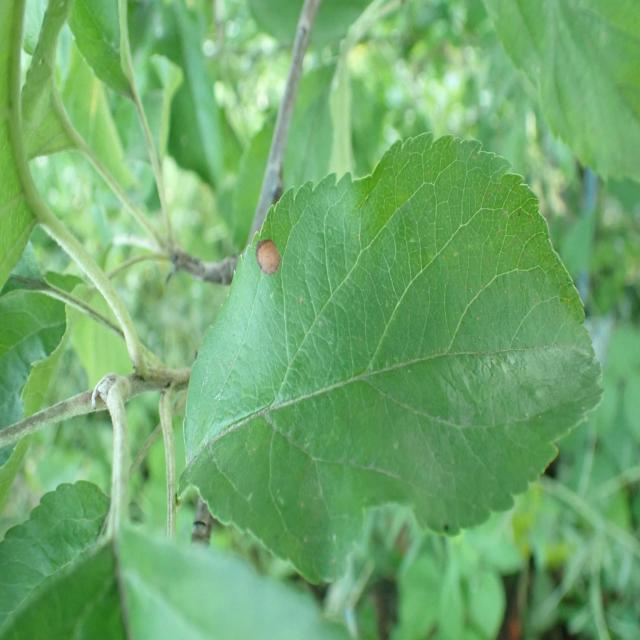Black Rot: (235, 218, 291, 317)
